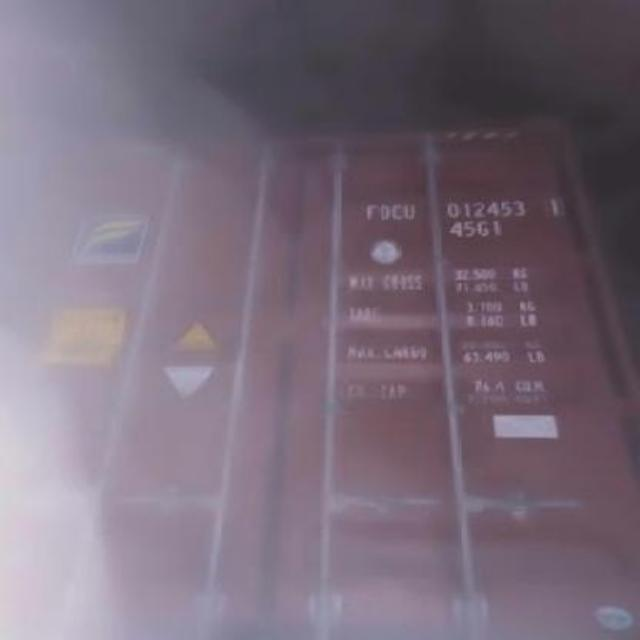0: (446, 198, 458, 220)
1: (546, 192, 562, 218), (461, 197, 474, 220)
2: (472, 195, 486, 219)
3: (512, 195, 528, 221)
4: (488, 195, 500, 219)
5: (501, 195, 514, 219)
C: (391, 199, 404, 225)
D: (378, 200, 390, 223)
F: (356, 190, 376, 222)
U: (402, 192, 416, 224)
